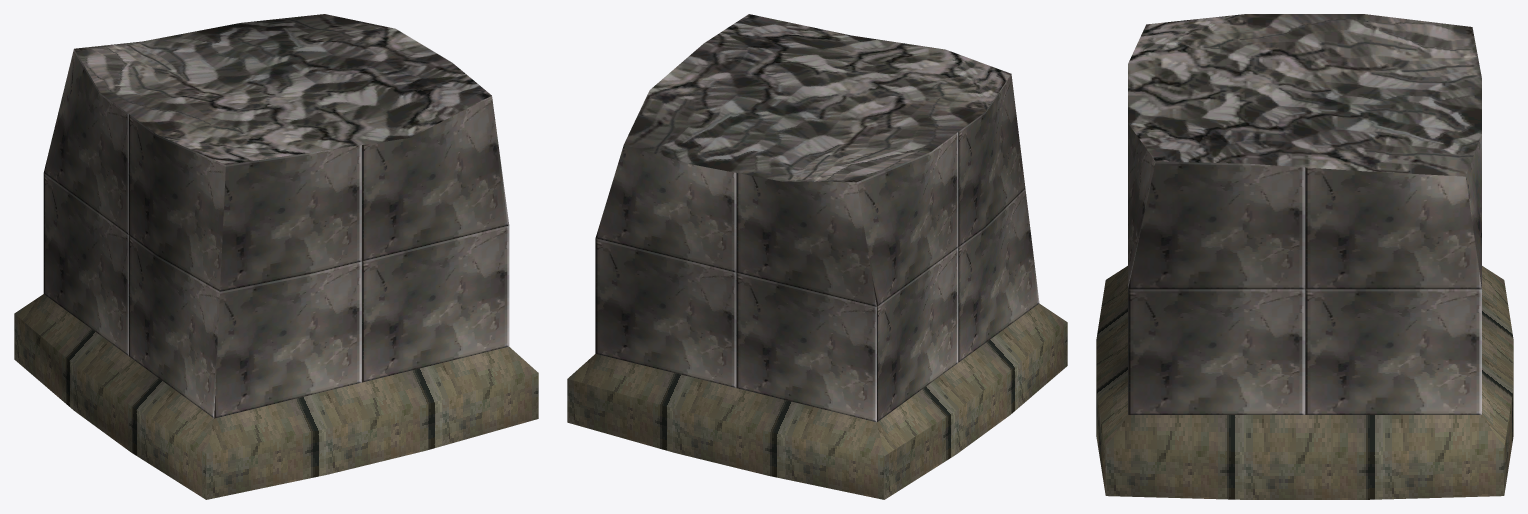
Rendered from INST_SM_DEBRIS_BLOCK_SMALLA.fbx.
3 renders of one model, left to right at view 1: azimuth 30°, elevation 25°; view 2: azimuth 150°, elevation 25°; view 3: azimuth 270°, elevation 25°, orthographic. The views are drawn at different scales.
Visible parts, largest first — view 1: INST_SM_DEBRIS_BLOCK_SMALLA; view 2: INST_SM_DEBRIS_BLOCK_SMALLA; view 3: INST_SM_DEBRIS_BLOCK_SMALLA.
Boxes of the visible parts, x1=… form: INST_SM_DEBRIS_BLOCK_SMALLA: x1=14, y1=14, x2=538, y2=499; INST_SM_DEBRIS_BLOCK_SMALLA: x1=567, y1=14, x2=1067, y2=499; INST_SM_DEBRIS_BLOCK_SMALLA: x1=1096, y1=14, x2=1513, y2=499.
Bounding box in the file's own units: 23571 × 20146 × 23570.
3 materials, 3 textured.
